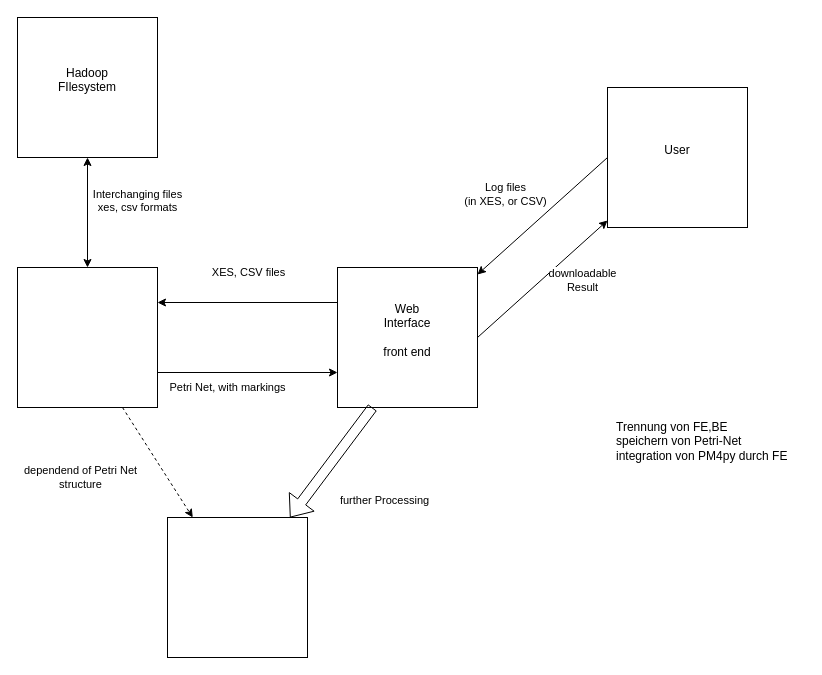
This 822x675 diagram has some shape labels left out. The box of each missing label's shape, as (x1, y1, x2, y2) in pixels:
Backend System: (16, 266, 158, 408)
PM4py: (166, 516, 308, 658)
